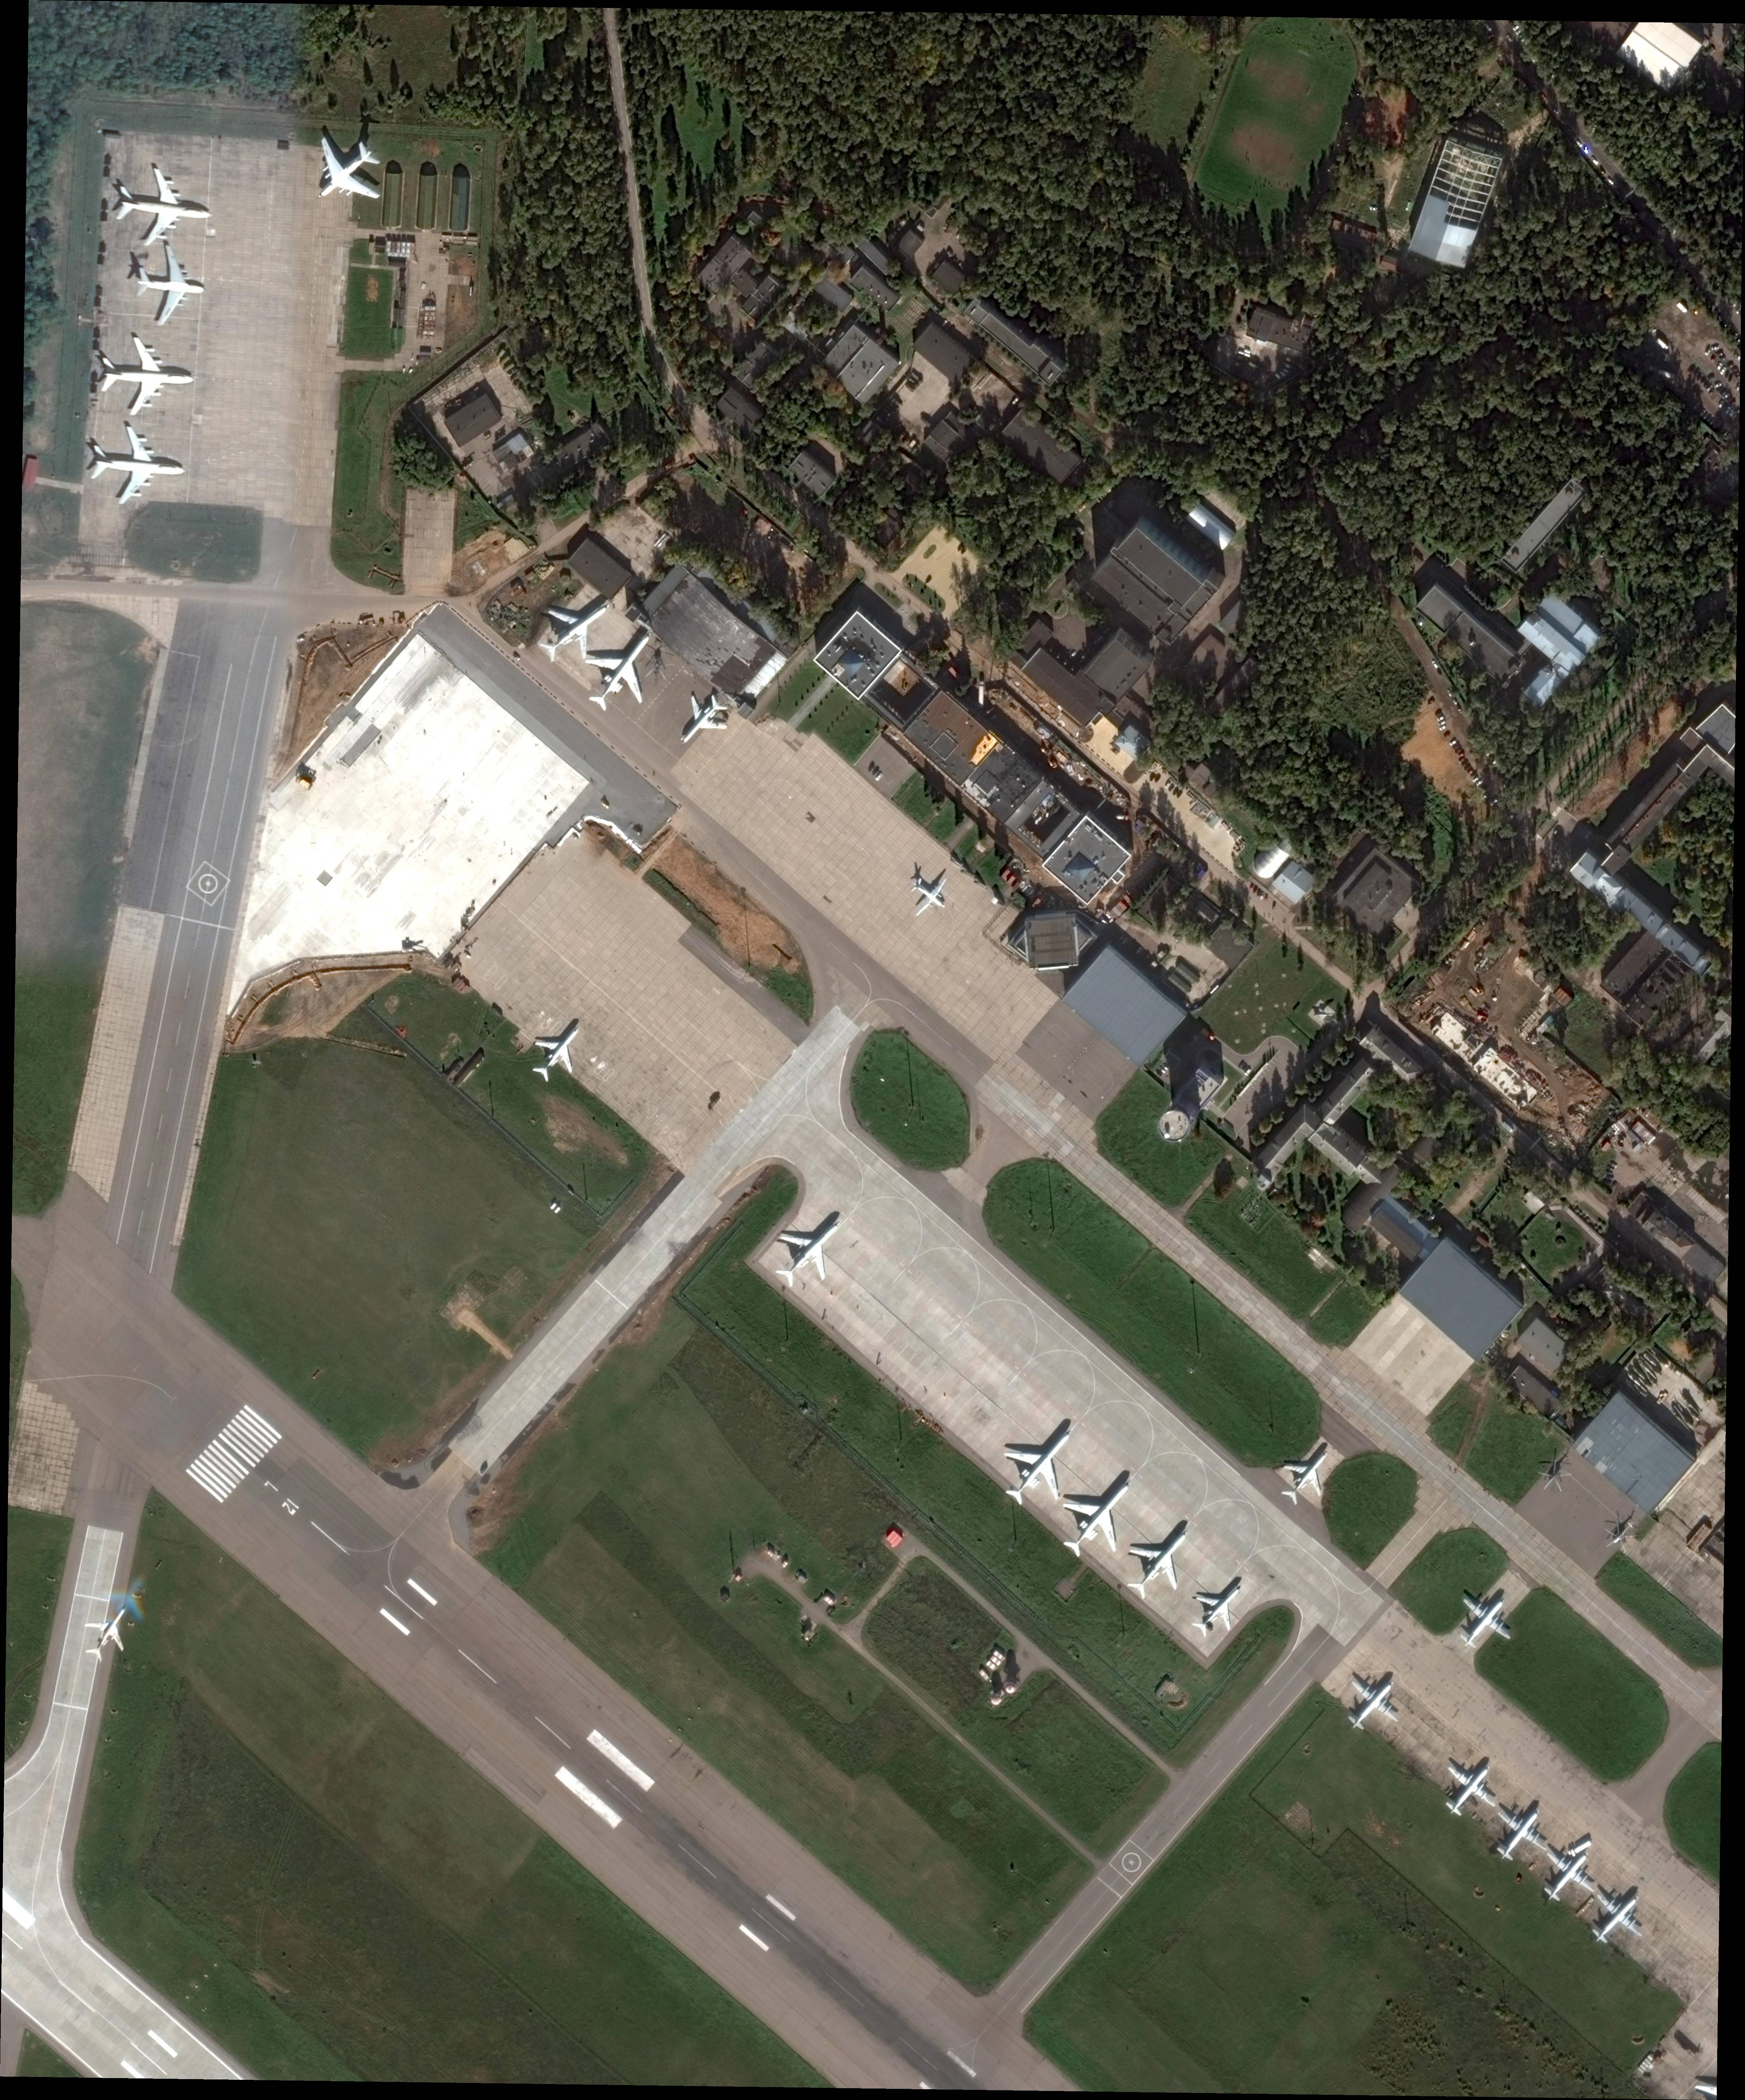helicopter: (1593, 1507, 1649, 1561), (1532, 1446, 1584, 1502)
plane: (1038, 1444, 1164, 1580), (286, 113, 414, 244), (745, 1186, 872, 1310), (1098, 1498, 1220, 1627), (981, 1401, 1106, 1523), (1155, 1547, 1276, 1673), (564, 605, 681, 733), (520, 577, 628, 685), (101, 160, 220, 258), (91, 331, 202, 422), (80, 422, 194, 509), (511, 1003, 606, 1104), (1471, 1783, 1565, 1877), (1572, 1866, 1666, 1960), (124, 237, 218, 330), (1440, 1573, 1530, 1667), (1523, 1826, 1612, 1922), (1426, 1742, 1515, 1833), (1330, 1657, 1417, 1748), (1265, 1430, 1351, 1523), (892, 855, 972, 940), (665, 678, 742, 764)
